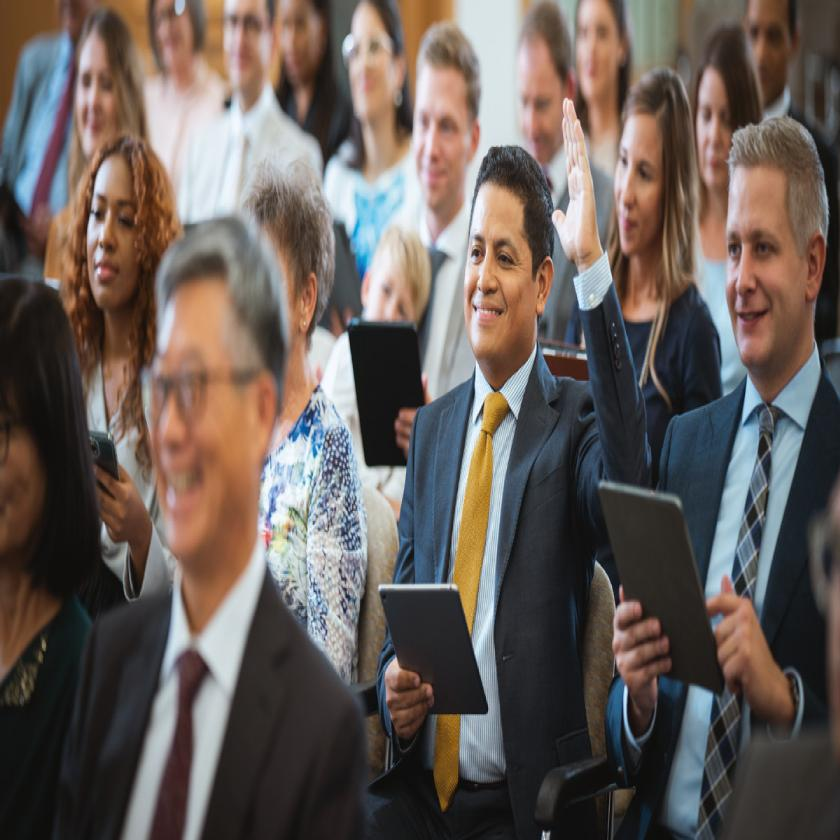Sin_casco: (150, 206, 288, 592), (726, 125, 825, 393), (466, 145, 555, 388), (611, 64, 692, 292), (80, 131, 166, 317), (410, 14, 485, 213), (688, 18, 753, 196), (75, 17, 138, 155)
